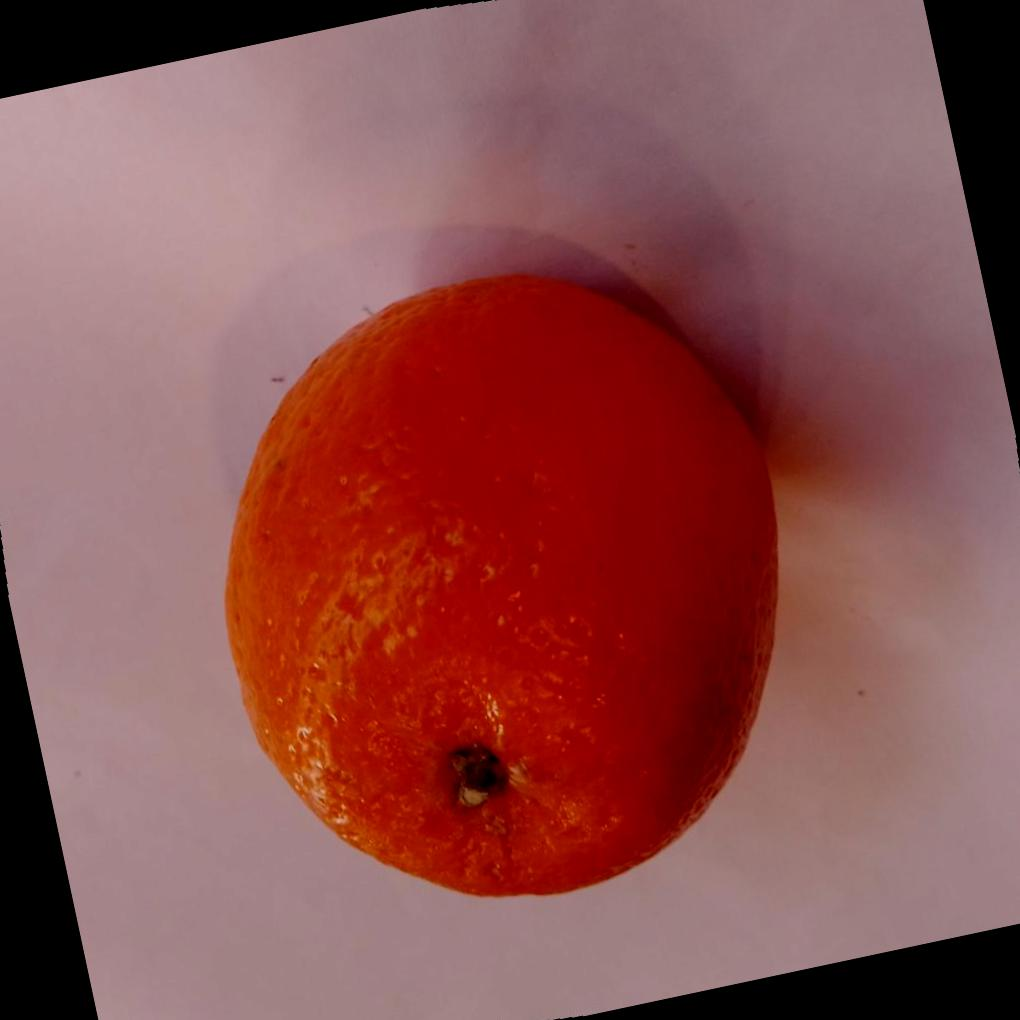FreshGuava: (220, 267, 780, 895)
